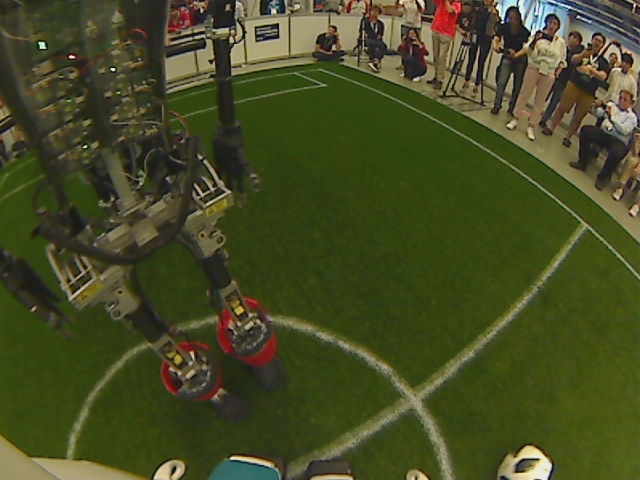ball: (496, 443, 552, 480)
robot: (191, 351, 288, 422)
